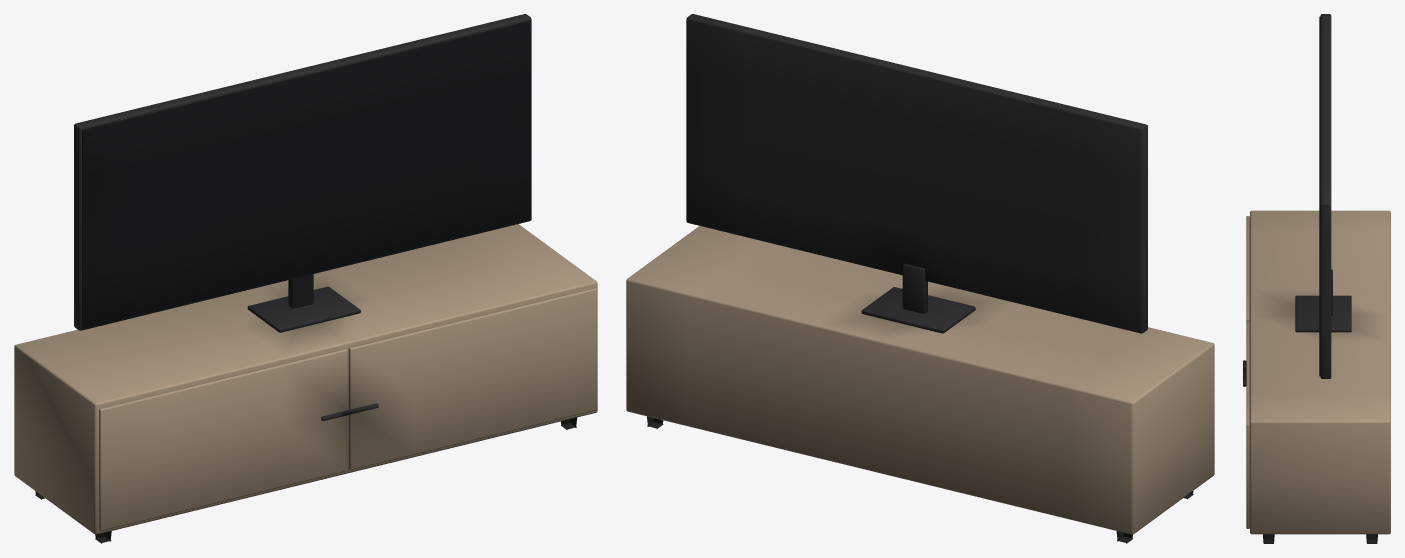
3 views of the same model, side by side, from view 1: azimuth 30°, elevation 25°; view 2: azimuth 150°, elevation 25°; view 3: azimuth 270°, elevation 25° (orthographic). The views are drawn at different scales.
Visible parts, largest first — view 1: p_tv; view 2: p_tv; view 3: p_tv.
Boxes of the visible parts, x1,y1,x2,y2 form: p_tv: [14, 14, 597, 543]; p_tv: [626, 14, 1214, 543]; p_tv: [1243, 14, 1390, 543].
Bounding box in the file's own units: 1.6 × 1.18 × 0.472.
